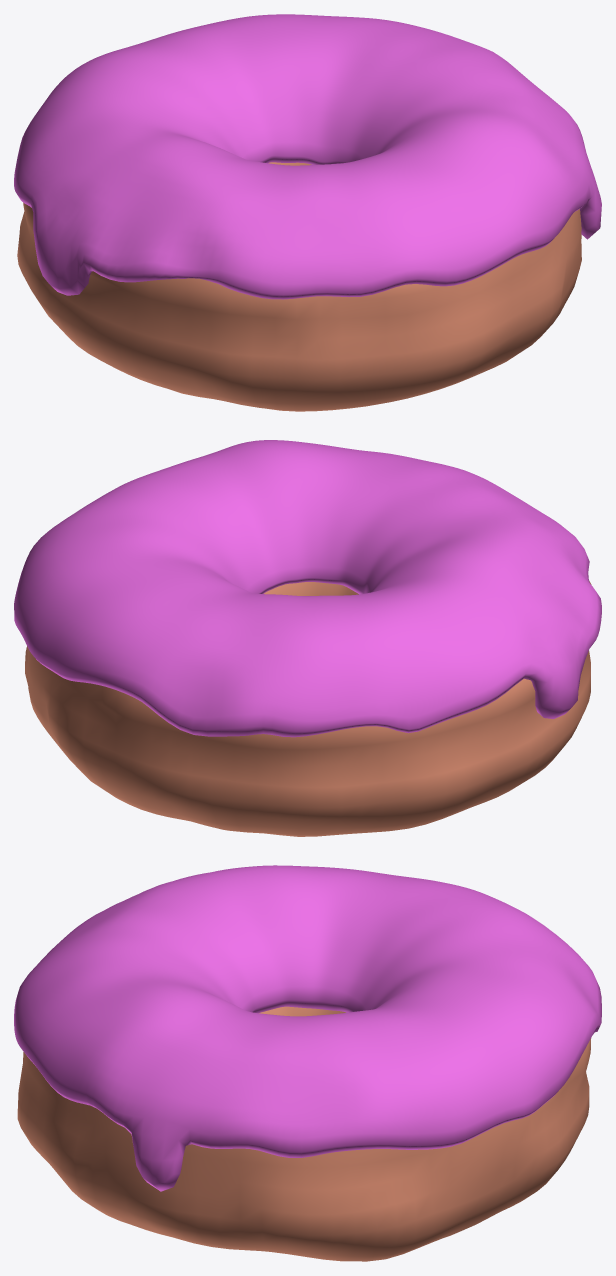
File: Donut.glb
The picture shows the model from 3 angles, top to bottom: view 1: azimuth 30°, elevation 25°; view 2: azimuth 150°, elevation 25°; view 3: azimuth 270°, elevation 25°; orthographic projection.
Parts seen in each view (by area): view 1: Icing, Donut; view 2: Icing, Donut; view 3: Icing, Donut.
Part boxes in pixels (<box>): Icing: <box>14,14,601,299</box>; Donut: <box>17,162,581,411</box>; Icing: <box>14,440,601,737</box>; Donut: <box>25,581,591,836</box>; Icing: <box>14,865,601,1191</box>; Donut: <box>17,1006,591,1261</box>.
Size of what is drawn, in the model's own units: 0.0257 by 0.0109 by 0.0254.
